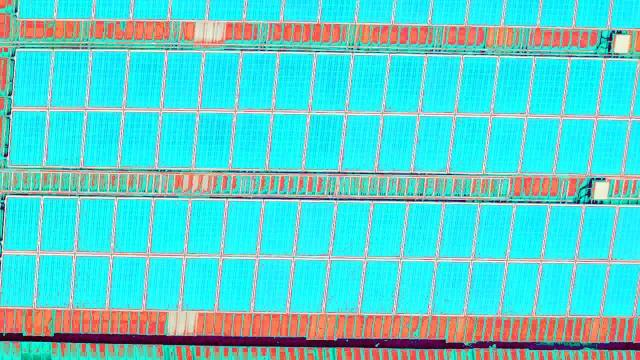dirty: (599, 57, 640, 121), (588, 115, 629, 179), (554, 114, 595, 178), (520, 110, 561, 174), (483, 114, 524, 178), (450, 114, 491, 178), (413, 109, 454, 173), (377, 113, 418, 177), (340, 111, 381, 175), (305, 111, 346, 175), (267, 107, 308, 171), (229, 105, 270, 169), (195, 104, 236, 168), (155, 106, 196, 170), (117, 106, 158, 170), (80, 105, 121, 169), (41, 106, 82, 170), (7, 108, 48, 172), (15, 46, 55, 110), (48, 49, 88, 113), (88, 50, 128, 114), (126, 50, 166, 114), (163, 50, 203, 114), (199, 50, 239, 114), (238, 51, 278, 115), (272, 50, 312, 114), (312, 51, 352, 115), (347, 52, 387, 116), (384, 53, 424, 117), (421, 53, 461, 117), (458, 55, 498, 119), (493, 55, 533, 119), (525, 53, 565, 117), (560, 58, 600, 122), (38, 194, 78, 258), (75, 192, 115, 256), (110, 192, 150, 256), (150, 196, 190, 260), (185, 198, 225, 262), (221, 196, 261, 260), (257, 198, 297, 262), (294, 196, 334, 260), (327, 201, 367, 265), (368, 199, 408, 263), (399, 197, 439, 261), (439, 197, 479, 261), (472, 198, 512, 262), (513, 199, 553, 263), (542, 199, 582, 263), (570, 199, 610, 263), (569, 256, 609, 320), (532, 256, 572, 320), (501, 259, 541, 323), (463, 257, 503, 321), (429, 258, 469, 322), (394, 258, 434, 322), (362, 252, 402, 316), (327, 254, 367, 318), (286, 252, 326, 316), (254, 254, 294, 318), (216, 254, 256, 318), (181, 249, 221, 313), (147, 247, 187, 311), (107, 251, 147, 315), (75, 248, 115, 312), (35, 247, 75, 311), (1, 193, 40, 257), (1, 248, 39, 312)
